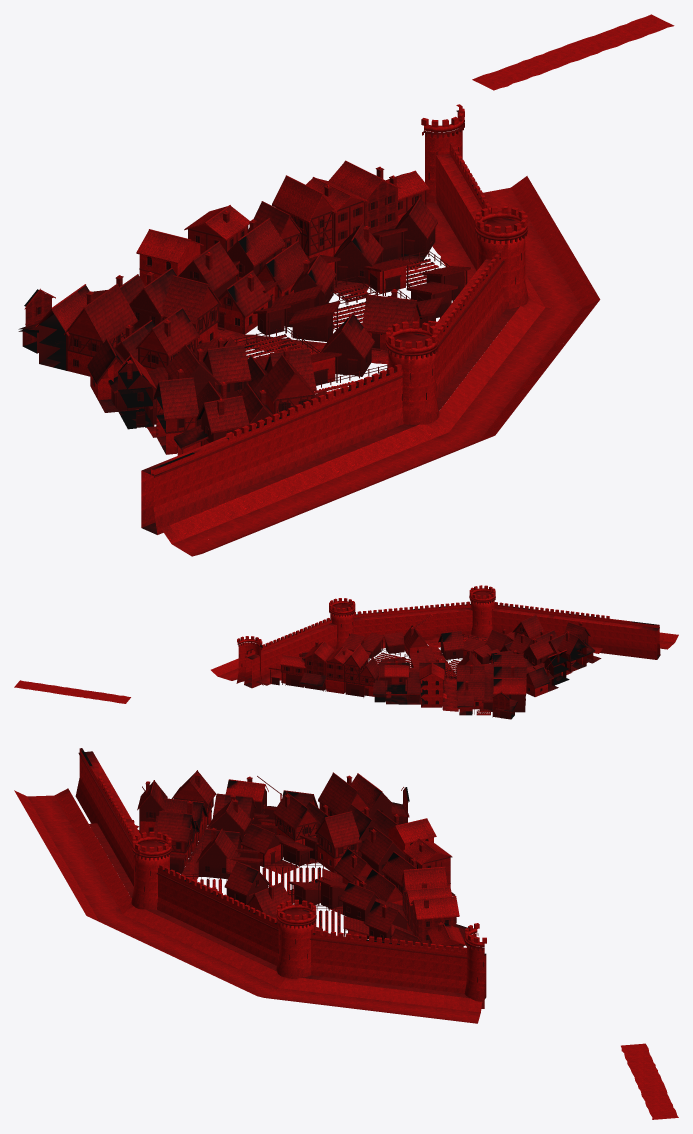
File: est.gltf
3 views of the same model, one above another, from view 1: azimuth 30°, elevation 25°; view 2: azimuth 150°, elevation 25°; view 3: azimuth 270°, elevation 25° (orthographic). The views are drawn at different scales.
Parts seen in each view (by area): view 1: Zona_est_2_-2, Zona_est_1_-4, Zona_est_3_-3, Zona_est_2_-4, Zona_est_3_-2, Zona_est_1_-2, Zona_est_1_-3, Zona_est_4_-2, Zona_est_2_-3, Zona_est_3_-1, Zona_est_4_-1, Zona_est_0_-4 (+5 smaller); view 2: Zona_est_2_-3, Zona_est_3_-1, Zona_est_1_-2, Zona_est_1_-3, Zona_est_4_-1, Zona_est_3_-3, Zona_est_2_-1, Zona_est_1_-4, Zona_est_3_-2, Zona_est_2_-2, Zona_est_4_-2, Zona_est_0_-4 (+4 smaller); view 3: Zona_est_4_-2, Zona_est_3_-3, Zona_est_2_-2, Zona_est_2_-3, Zona_est_4_-1, Zona_est_1_-4, Zona_est_1_-3, Zona_est_3_-2, Zona_est_2_-4, Zona_est_1_-2, Zona_est_3_-1, Zona_est_2_-1 (+5 smaller).
Boxes of the visible parts, x1,y1,x2,y2 form: Zona_est_2_-2: [124, 225, 340, 359]; Zona_est_1_-4: [166, 401, 355, 549]; Zona_est_3_-3: [362, 258, 566, 423]; Zona_est_2_-4: [302, 334, 483, 494]; Zona_est_3_-2: [269, 193, 509, 329]; Zona_est_1_-2: [18, 275, 195, 407]; Zona_est_1_-3: [102, 337, 283, 455]; Zona_est_4_-2: [429, 177, 595, 315]; Zona_est_2_-3: [223, 312, 442, 415]; Zona_est_3_-1: [248, 160, 420, 258]; Zona_est_4_-1: [386, 104, 549, 244]; Zona_est_0_-4: [141, 459, 218, 556]; Zona_est_2_-3: [433, 586, 544, 664]; Zona_est_3_-1: [286, 641, 379, 697]; Zona_est_1_-2: [459, 650, 553, 719]; Zona_est_1_-3: [508, 622, 601, 689]; Zona_est_4_-1: [211, 636, 302, 688]; Zona_est_3_-3: [359, 602, 465, 656]; Zona_est_2_-1: [373, 661, 463, 711]; Zona_est_1_-4: [553, 609, 666, 657]; Zona_est_3_-2: [338, 600, 428, 667]; Zona_est_2_-2: [394, 647, 497, 707]; Zona_est_4_-2: [284, 598, 351, 656]; Zona_est_0_-4: [640, 623, 678, 659]; Zona_est_4_-2: [266, 905, 410, 1015]; Zona_est_3_-3: [130, 867, 275, 978]; Zona_est_2_-2: [264, 807, 409, 911]; Zona_est_2_-3: [134, 806, 274, 912]; Zona_est_4_-1: [398, 923, 486, 1023]; Zona_est_1_-4: [19, 758, 139, 861]; Zona_est_1_-3: [137, 770, 276, 854]; Zona_est_3_-2: [267, 870, 407, 965]; Zona_est_2_-4: [52, 811, 144, 919]; Zona_est_1_-2: [266, 772, 409, 841]; Zona_est_3_-1: [401, 864, 467, 946]; Zona_est_2_-1: [400, 818, 455, 895].
Size of the model in its own units: 148 by 14.3 by 125.
Materials: 31 (23 with a texture image).
